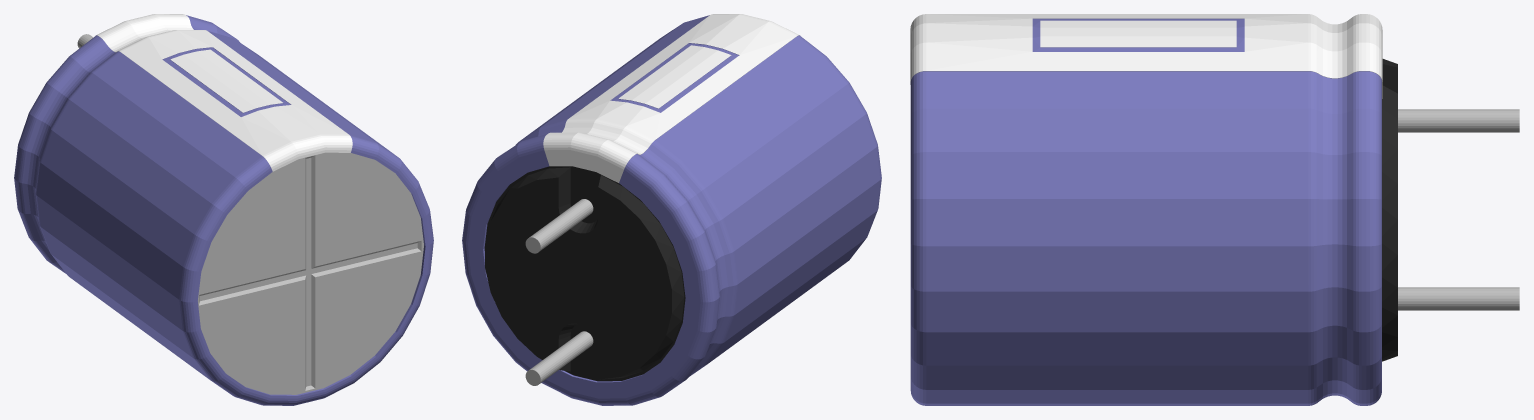
The model's file is cap_el_d10_h12.5_pitch5_w0.6.obj.
The picture shows the model from 3 angles, left to right: view 1: azimuth 30°, elevation 25°; view 2: azimuth 150°, elevation 25°; view 3: azimuth 270°, elevation 25°; orthographic projection. The views are drawn at different scales.
Parts seen in each view (by area): view 1: cap_el_d10_h12.5_pitch5_w0.6; view 2: cap_el_d10_h12.5_pitch5_w0.6; view 3: cap_el_d10_h12.5_pitch5_w0.6.
Part boxes in pixels (box(x1,y1,x2,y2)): cap_el_d10_h12.5_pitch5_w0.6: box(14, 14, 433, 405); cap_el_d10_h12.5_pitch5_w0.6: box(462, 14, 881, 405); cap_el_d10_h12.5_pitch5_w0.6: box(910, 14, 1519, 405).
Size of the model in its own units: 0.0105 by 0.0105 by 0.0163.
